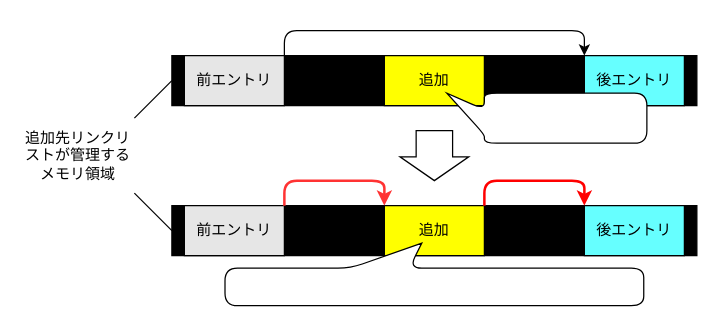
This 719x329 diagram has some shape labels left out. Each missing label, with the centre of its shape:
"前後エントリのメモリ領域に隣接しない" goes at point (546, 117).
"未使用リンクリストからブロック管理情報を取り出して追加" goes at point (434, 274).
